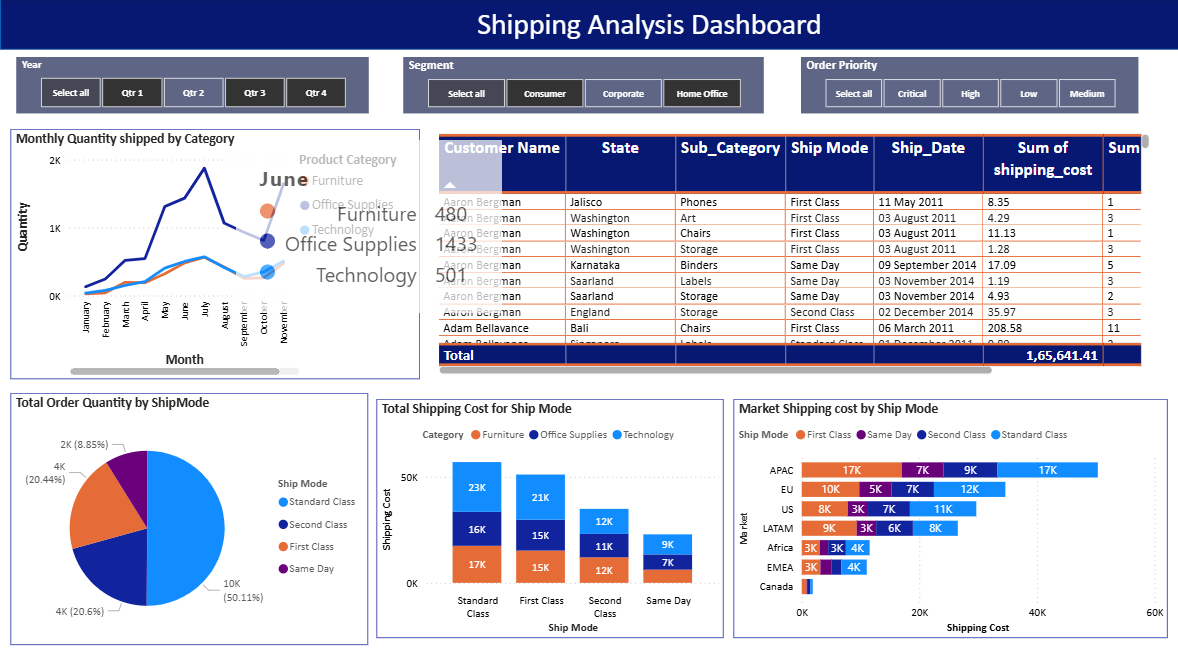

The page's visual inventory and layout, read from the dashboard file:
{"tool":"powerbi","page":{"name":"ShipAnalysis-Dashboard","canvas":[1280,720],"ordinal":2},"visuals":[{"type":"slicer","fields":{"Values":["Orders.order_date.Variation.Date Hierarchy.Quarter1"]},"box":[0,65.6,390.2,70.5],"z":0},{"type":"slicer","fields":{"Values":["Orders.order_priority"]},"box":[793.4,62.1,457.3,77.2],"z":1000},{"type":"slicer","fields":{"Values":["Orders.segment"]},"box":[390.7,62.1,402.8,77.2],"z":2000},{"type":"tableEx","fields":{"Values":["Orders.customer_name","Orders.state","Orders.sub_category","Orders.ship_date","Sum(Orders.shipping_cost)","Sum(Orders.quantity)","Sum(Orders.sales)"]},"box":[495.1,159,755.6,254.4],"z":4000},{"type":"lineChart","fields":{"Category":["Orders.ship_date.Variation.Date Hierarchy.Month"],"Y":["Sum(Orders.quantity)"],"Series":["Orders.category"]},"box":[22.7,152.9,378.6,268],"z":5000},{"type":"pieChart","title":"Total quantity by ship_mode","fields":{"Y":["Sum(Orders.quantity)"],"Category":["Orders.ship_mode"]},"box":[23,431,379,268],"z":6000},{"type":"columnChart","fields":{"Category":["Orders.ship_mode"],"Y":["Sum(Orders.shipping_cost)"],"Series":["Orders.category"]},"box":[445.2,431.5,380.1,268],"z":7000},{"type":"barChart","title":"Market Shipping Cost by Ship Mode","fields":{"Y":["Sum(Orders.shipping_cost)"],"Category":["Orders.market"],"Series":["Orders.ship_mode"]},"box":[825,432,426,268],"z":8000},{"type":"shape","box":[0,4.9,1280.3,57.4],"z":9000},{"type":"textbox","title":"Shipping Analysis Dashboard","box":[401.6,14.8,493.4,37.7],"z":10000}]}

Visuals, with their boxes in screenshot pixels (x1, y1, x2, y2), scaled from the page's 1280x720 canvas onto the 1178x650 screenshot:
slicer - Orders.order_date.Variation.Date Hierarchy.Quarter1: pyautogui.locateOnScreen(0, 59, 359, 123)
slicer - Orders.order_priority: pyautogui.locateOnScreen(730, 56, 1151, 126)
slicer - Orders.segment: pyautogui.locateOnScreen(360, 56, 730, 126)
tableEx - Orders.customer_name x Orders.state: pyautogui.locateOnScreen(456, 144, 1151, 373)
lineChart - Orders.ship_date.Variation.Date Hierarchy.Month x Sum(Orders.quantity): pyautogui.locateOnScreen(21, 138, 369, 380)
"Total quantity by ship_mode" pieChart: pyautogui.locateOnScreen(21, 389, 370, 631)
columnChart - Orders.ship_mode x Sum(Orders.shipping_cost): pyautogui.locateOnScreen(410, 390, 760, 631)
"Market Shipping Cost by Ship Mode" barChart: pyautogui.locateOnScreen(759, 390, 1151, 632)
shape: pyautogui.locateOnScreen(0, 4, 1177, 56)
"Shipping Analysis Dashboard" textbox: pyautogui.locateOnScreen(370, 13, 824, 47)
